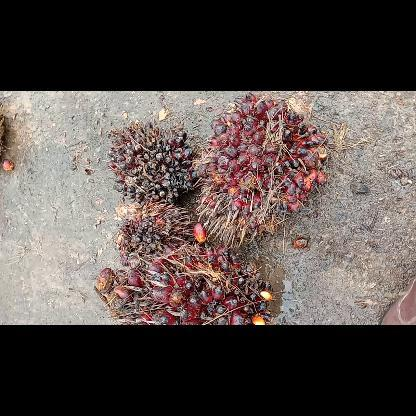Kurang masak: (98, 246, 272, 324)
TBS abnormal: (108, 121, 198, 204), (114, 203, 194, 269)
TBS masak: (195, 92, 327, 248)
